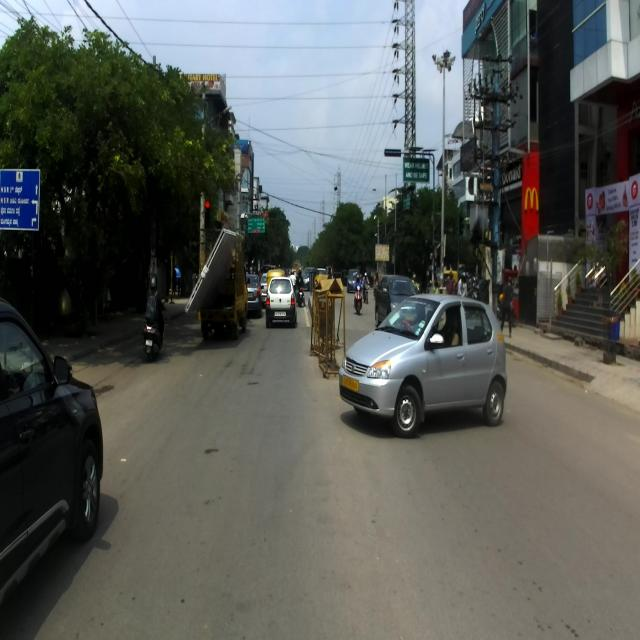car: (0, 295, 104, 608), (338, 293, 506, 438), (374, 274, 418, 327), (265, 276, 298, 328)
scooter: (142, 297, 168, 363), (352, 280, 363, 314)
truck: (198, 229, 247, 339)
